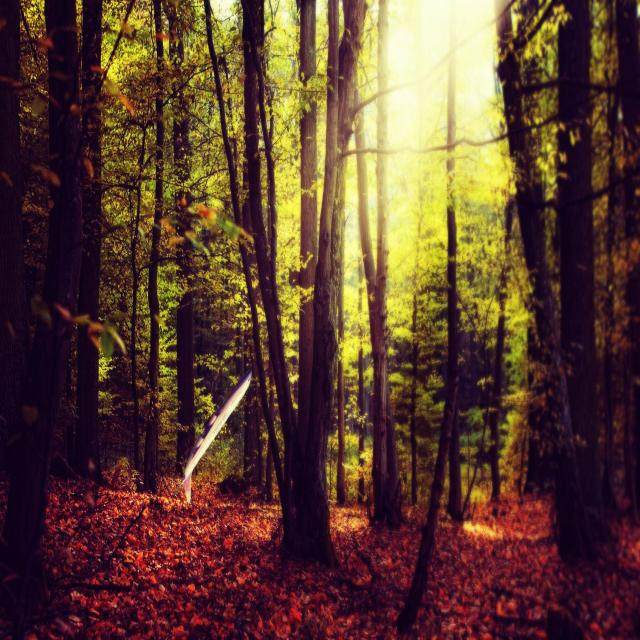airplane: (180, 368, 252, 504)
